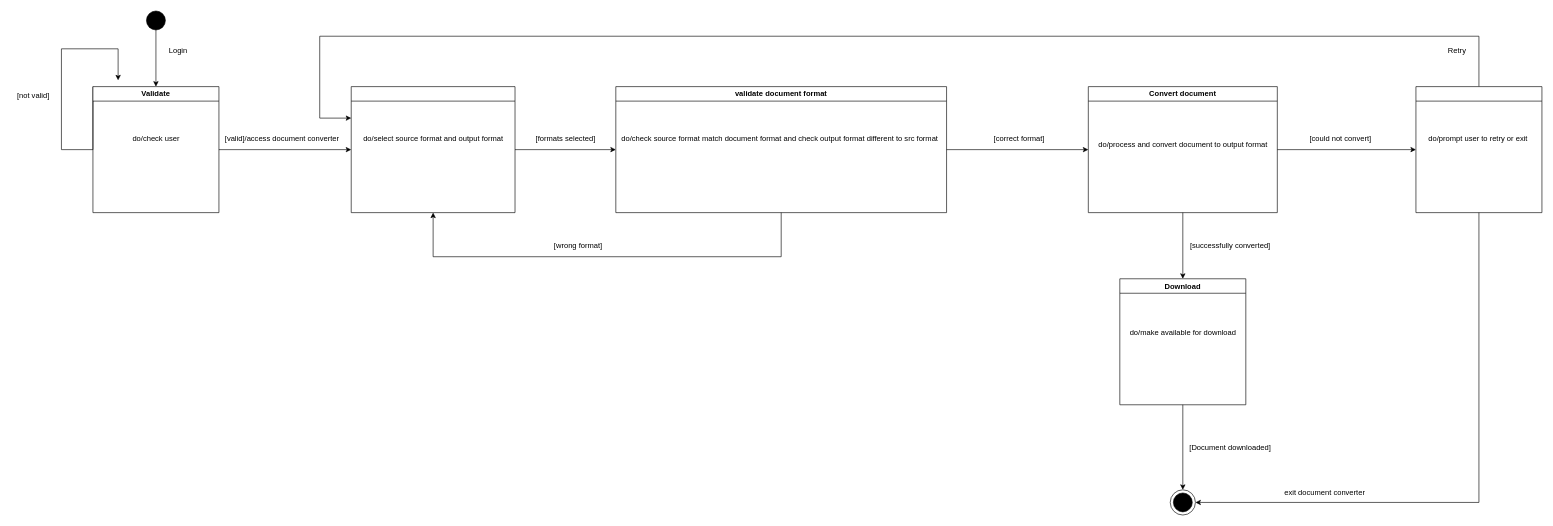
Some shapes in this 1553 by 526 pixel diagram are drawn without their labels. Here are the shapes that lost their labels. From the top down, the box of each, then its label:
(351, 86, 515, 213): Format selection
(1415, 86, 1542, 213): Convert fail
